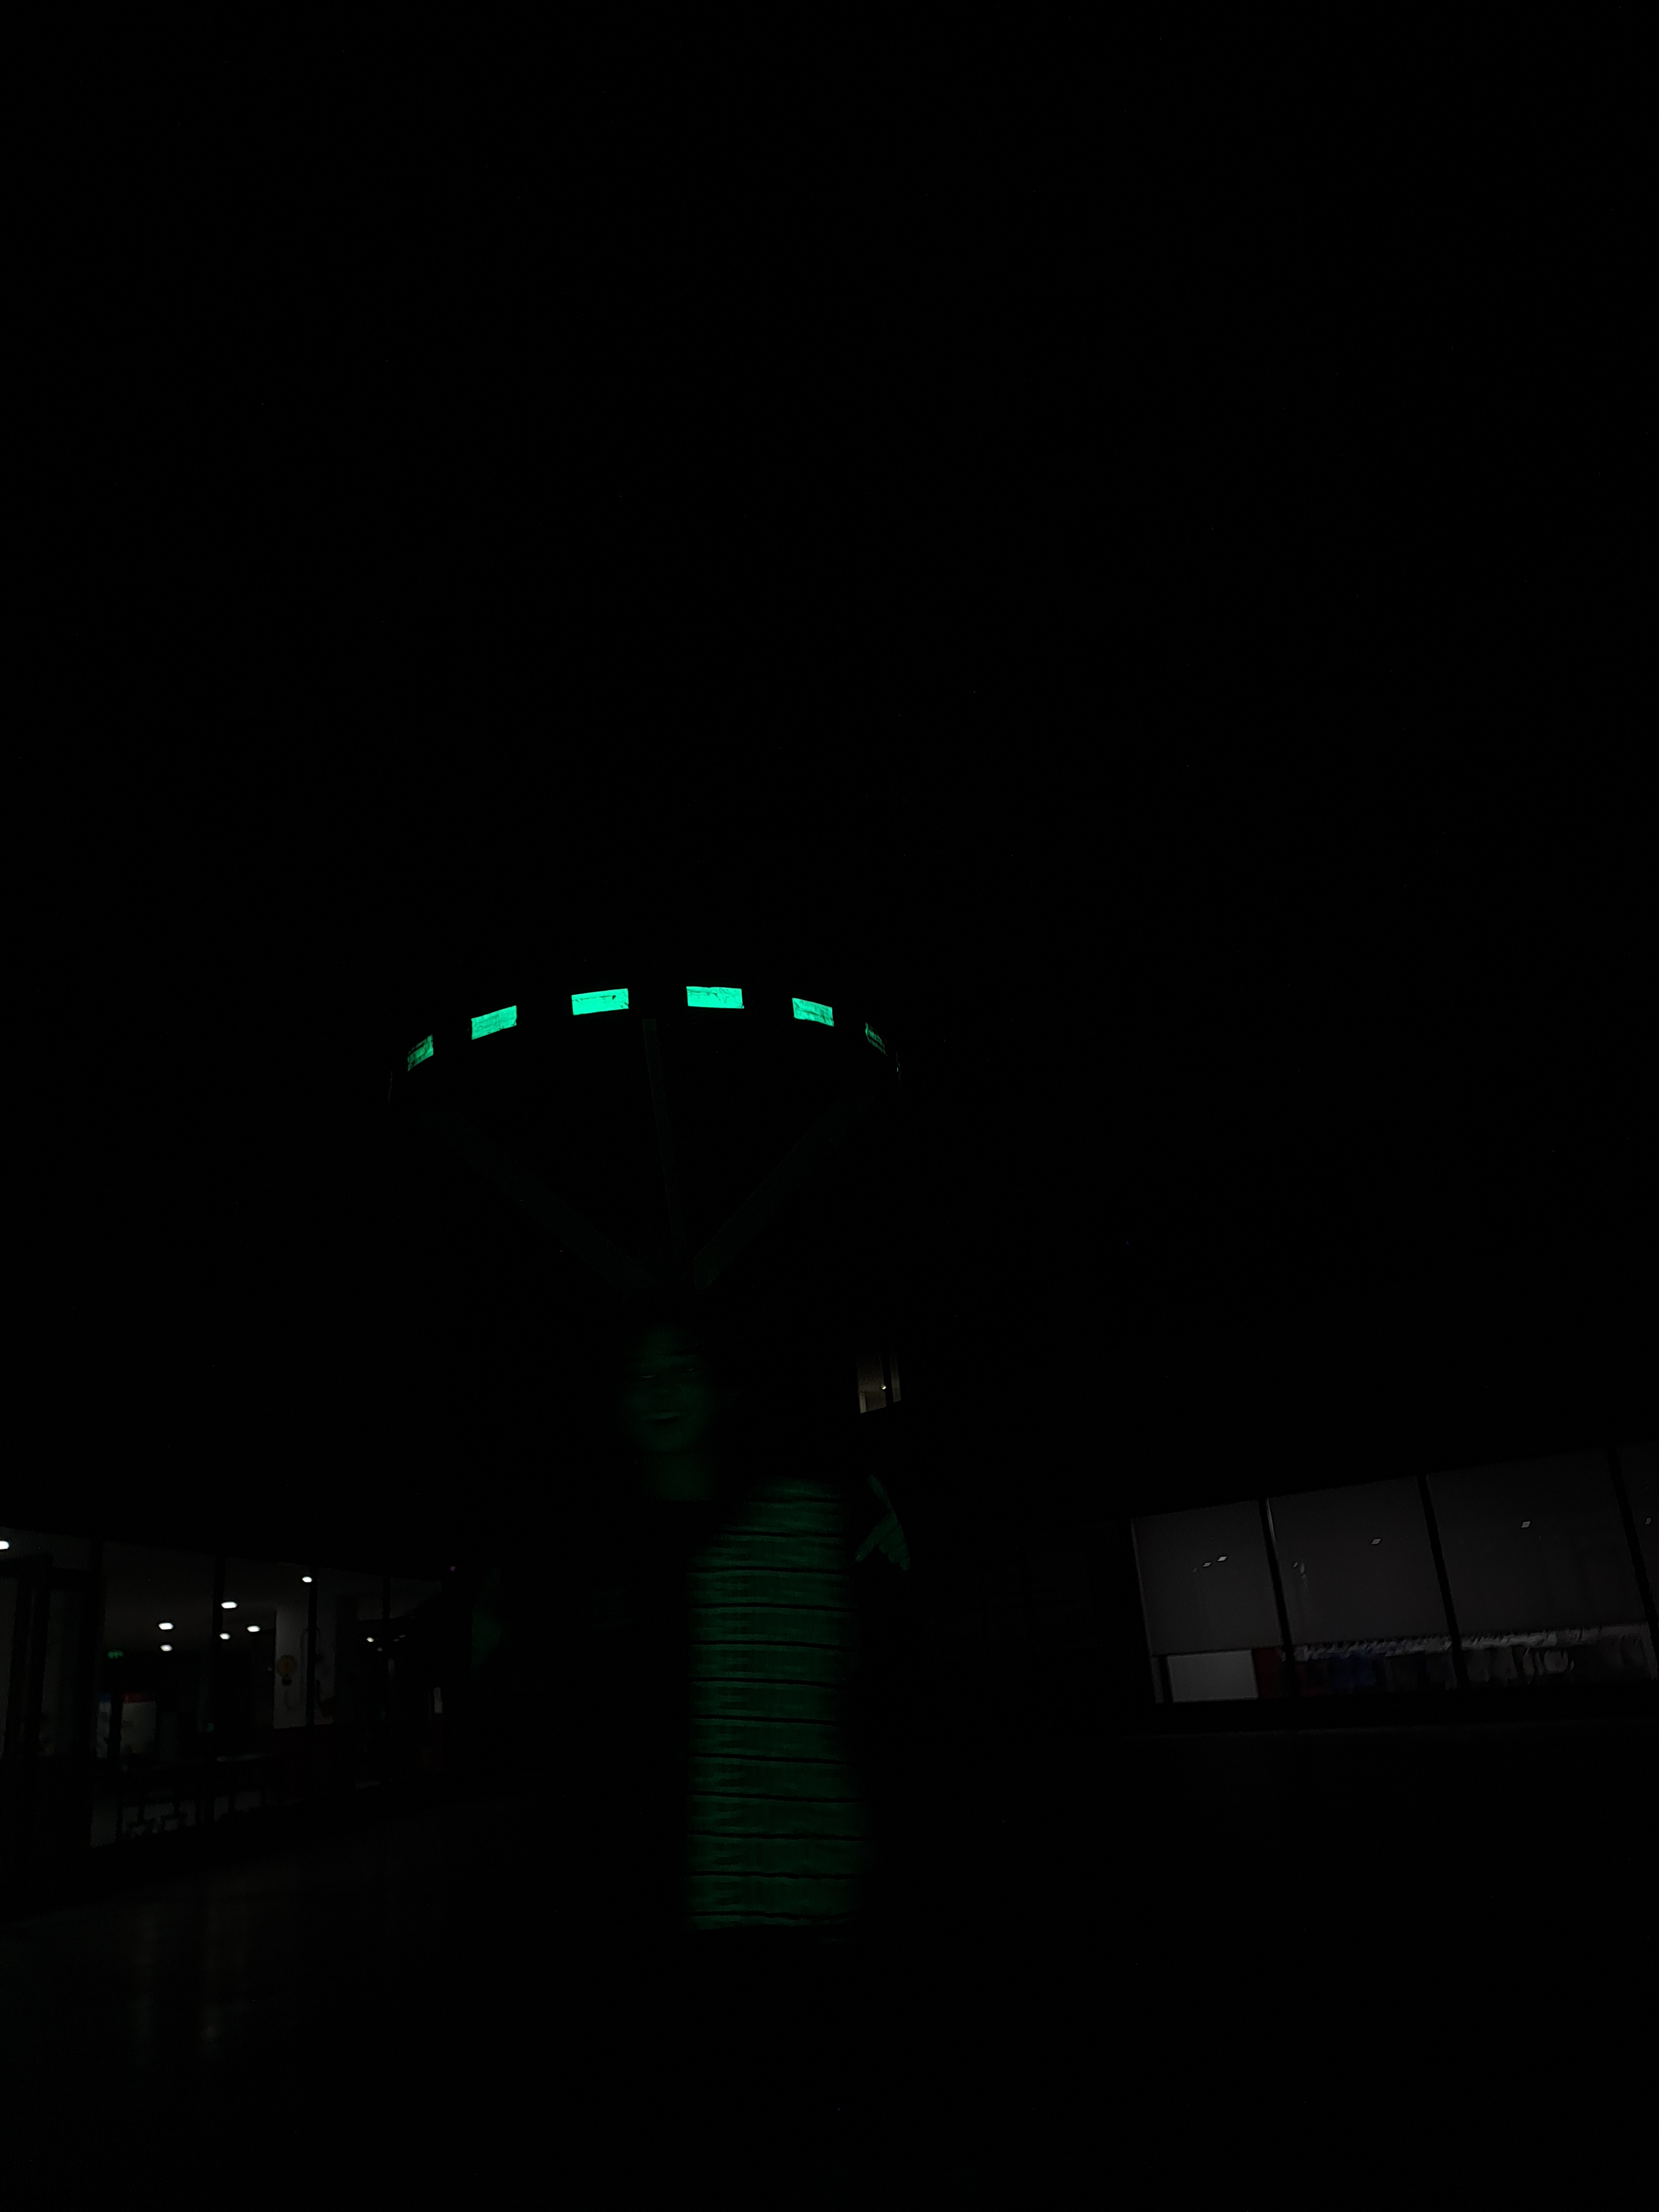hoop: (399, 981, 842, 1078)
